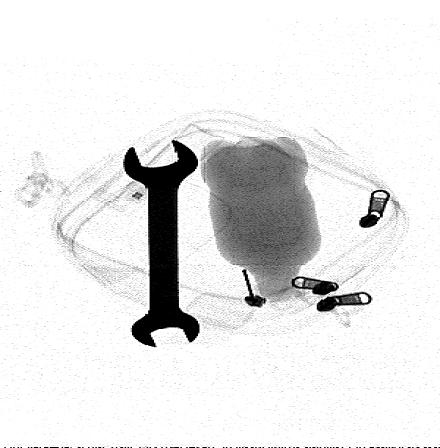Wrench: (121, 138, 202, 349)
